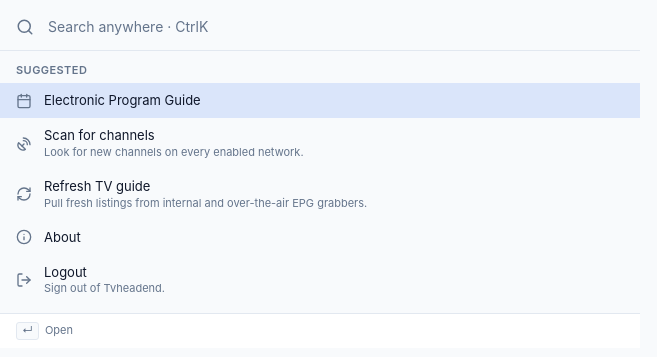
Test: CommandPalette › shows the empty-state message when no commands match the query
Step 1. Type "zzzznever" into the dropdown with class "command-palette__input" → (335, 27), box x1=46 y1=16 x2=624 y2=38
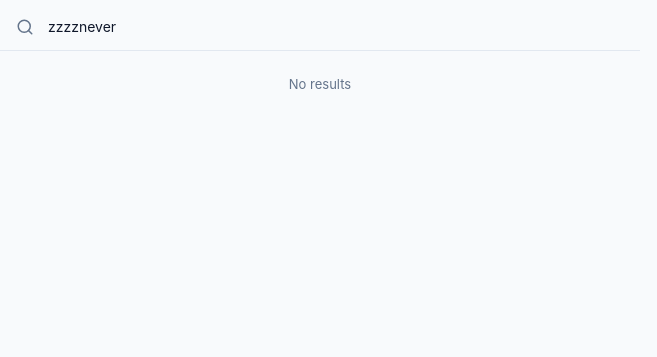
Expected: the text "No results" is shown, x1=289 y1=76 x2=351 y2=92
Expected: no options with class "command-palette__row" are shown
